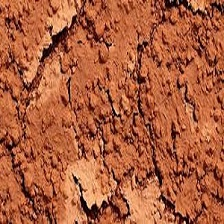clay_soil: (9, 19, 209, 202)
